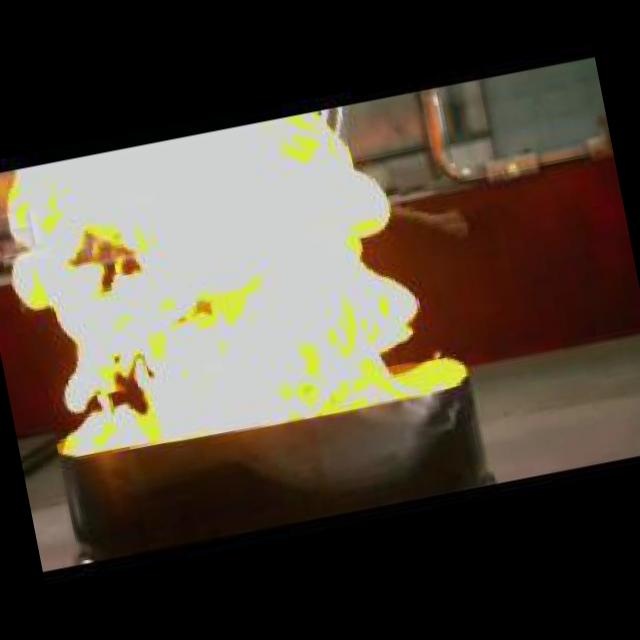fire: (0, 101, 459, 461)
